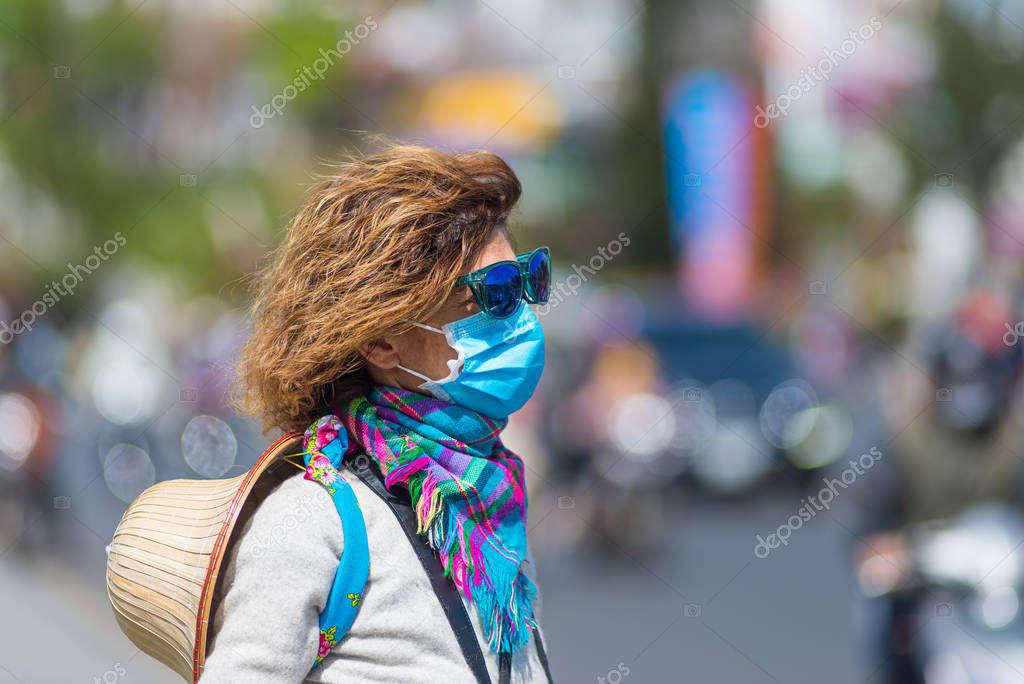mask: (425, 218, 551, 422)
